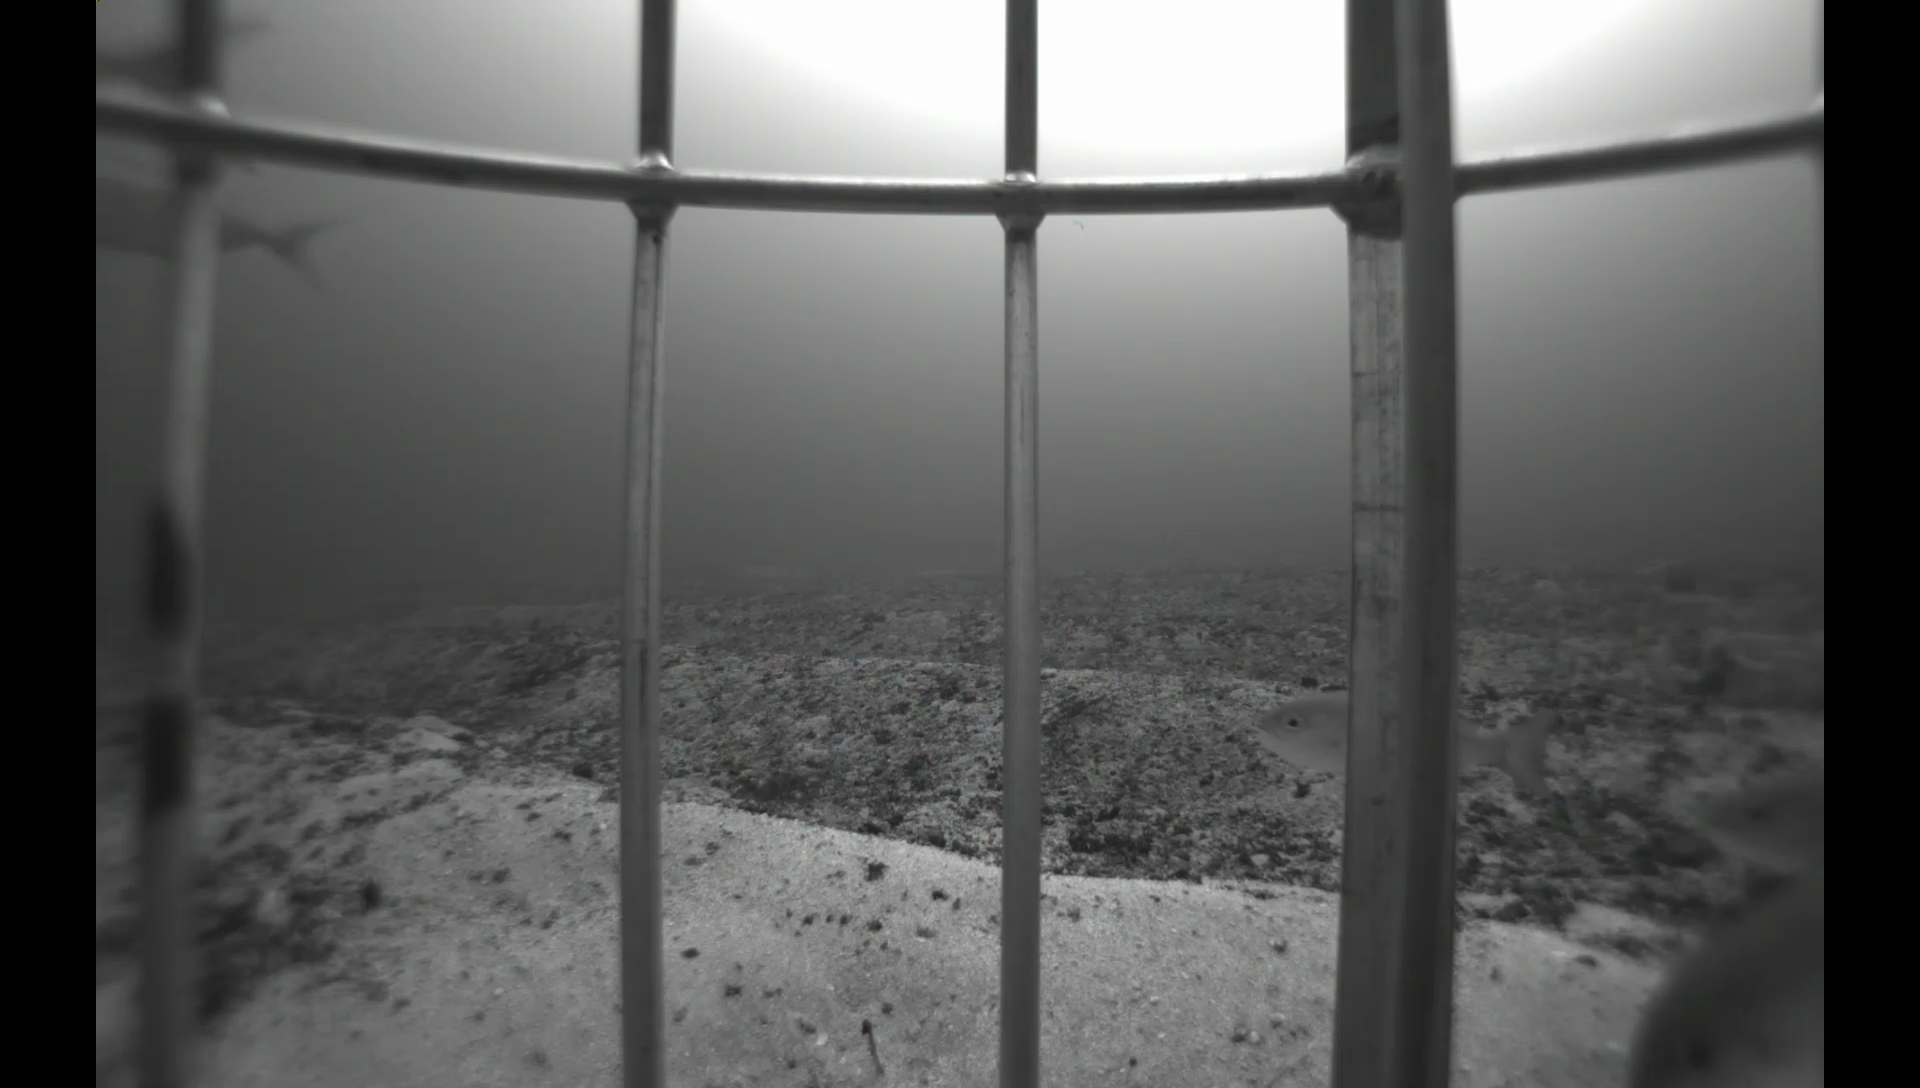RHOMBOPLITESAURORUBENS-170152001: (1232, 674, 1598, 828), (1623, 859, 1824, 1087), (1677, 748, 1825, 885)
SERIOLAFASCIATA-170113103: (94, 171, 353, 309), (94, 3, 285, 189)
